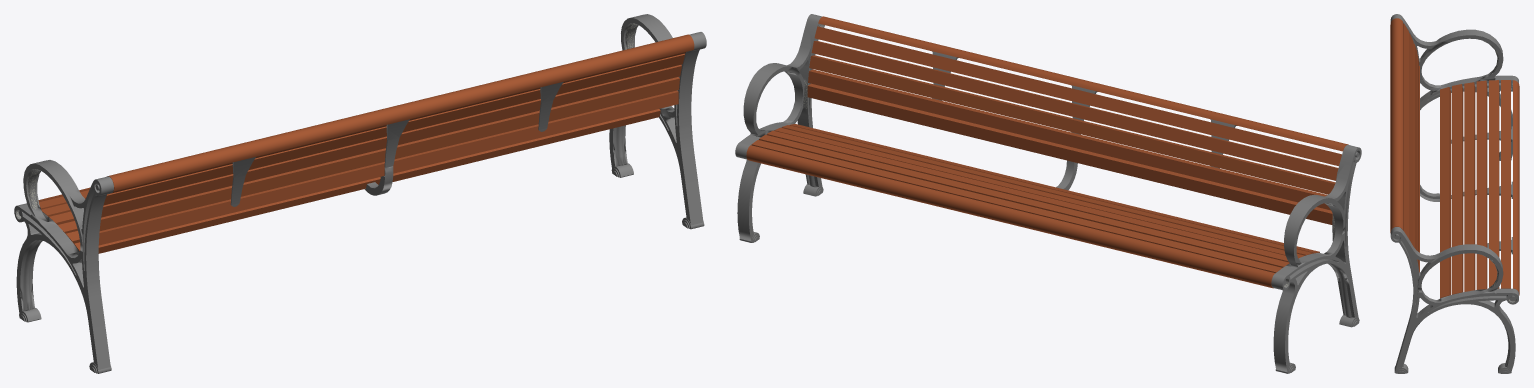
3 views of the same model, side by side, from view 1: azimuth 30°, elevation 25°; view 2: azimuth 150°, elevation 25°; view 3: azimuth 270°, elevation 25° (orthographic). The views are drawn at different scales.
Parts seen in each view (by area): view 1: mesh21_mesh21-geometry, mesh19_mesh19-geometry, mesh10_mesh10-geometry, mesh1_mesh1-geometry, mesh25_mesh25-geometry, mesh27_mesh27-geometry; view 2: mesh21_mesh21-geometry, mesh19_mesh19-geometry, mesh10_mesh10-geometry, mesh1_mesh1-geometry, mesh27_mesh27-geometry; view 3: mesh21_mesh21-geometry, mesh1_mesh1-geometry, mesh19_mesh19-geometry, mesh10_mesh10-geometry, mesh27_mesh27-geometry, mesh23_mesh23-geometry.
Part boxes in pixels (bbox=[...]): mesh21_mesh21-geometry: bbox=[39, 52, 685, 253]; mesh19_mesh19-geometry: bbox=[38, 34, 694, 201]; mesh10_mesh10-geometry: bbox=[14, 160, 113, 373]; mesh1_mesh1-geometry: bbox=[609, 14, 706, 229]; mesh25_mesh25-geometry: bbox=[230, 82, 563, 206]; mesh27_mesh27-geometry: bbox=[364, 119, 409, 195]; mesh21_mesh21-geometry: bbox=[751, 26, 1341, 272]; mesh19_mesh19-geometry: bbox=[746, 16, 1348, 288]; mesh10_mesh10-geometry: bbox=[1271, 145, 1361, 373]; mesh1_mesh1-geometry: bbox=[735, 14, 824, 242]; mesh27_mesh27-geometry: bbox=[1056, 85, 1097, 190]; mesh21_mesh21-geometry: bbox=[1403, 23, 1510, 298]; mesh1_mesh1-geometry: bbox=[1390, 227, 1518, 373]; mesh19_mesh19-geometry: bbox=[1390, 18, 1519, 295]; mesh10_mesh10-geometry: bbox=[1390, 14, 1518, 160]; mesh27_mesh27-geometry: bbox=[1420, 181, 1512, 201]; mesh23_mesh23-geometry: bbox=[1451, 126, 1512, 254].
Bounding box in the file's own units: 0.9316 × 0.2807 × 0.2308.
